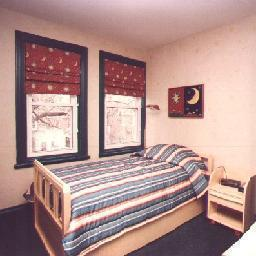Cama: (35, 144, 202, 246)
Ventana: (21, 41, 83, 155), (103, 55, 144, 152)
